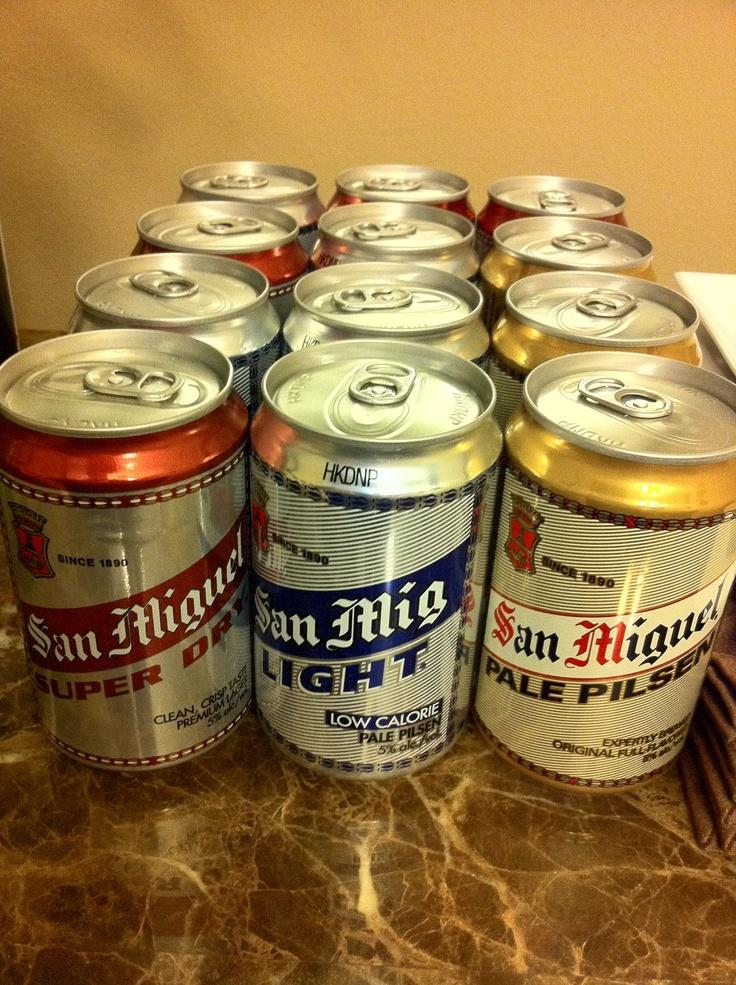can: (478, 351, 735, 787), (0, 330, 251, 768), (252, 340, 499, 777), (71, 252, 282, 421), (487, 271, 701, 425), (133, 199, 308, 322), (284, 261, 489, 365), (481, 216, 655, 308), (180, 161, 324, 267), (311, 202, 478, 280), (477, 176, 626, 244), (328, 165, 474, 221), (618, 382, 680, 438), (656, 426, 735, 459)
